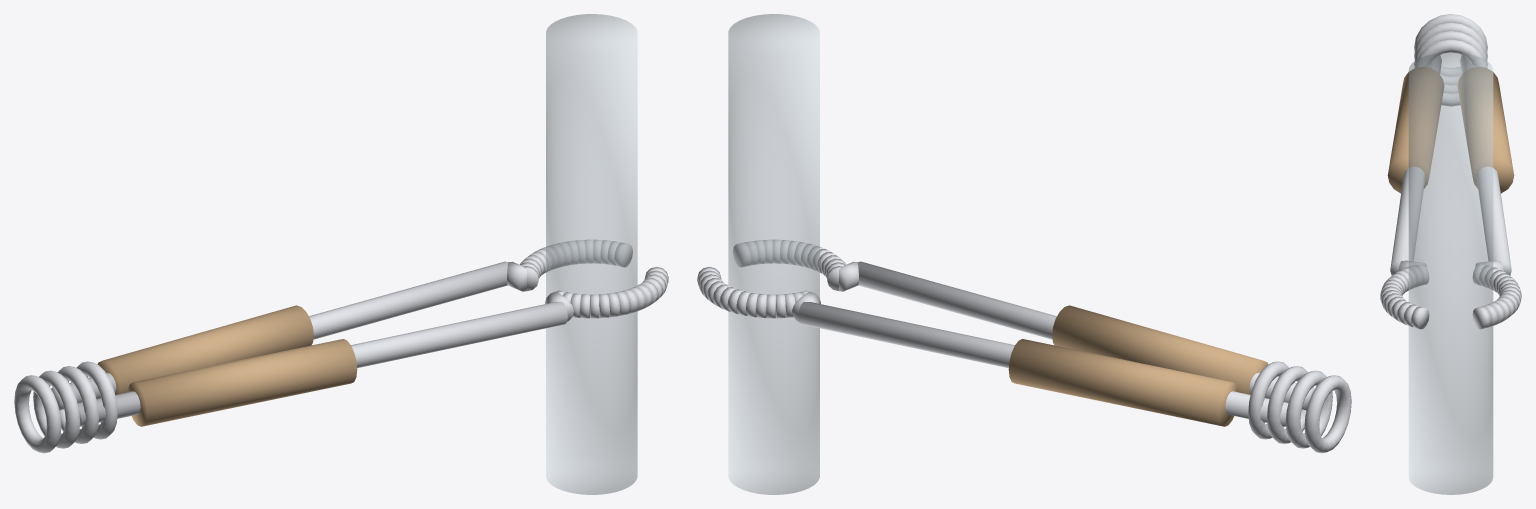
Rendered from pinza-tubo.glb.
3 views of the same model, side by side, from view 1: azimuth 30°, elevation 25°; view 2: azimuth 150°, elevation 25°; view 3: azimuth 270°, elevation 25° (orthographic). The views are drawn at different scales.
Visible parts, largest first — view 1: pinza-tubo_12, pinza-tubo_6, pinza-tubo_7, pinza-tubo_0, pinza-tubo_1, pinza-tubo_8, pinza-tubo_9, pinza-tubo_2, pinza-tubo_3, pinza-tubo_4, pinza-tubo_5; view 2: pinza-tubo_12, pinza-tubo_7, pinza-tubo_6, pinza-tubo_1, pinza-tubo_0, pinza-tubo_9, pinza-tubo_8, pinza-tubo_2, pinza-tubo_3, pinza-tubo_4, pinza-tubo_5; view 3: pinza-tubo_12, pinza-tubo_6, pinza-tubo_7, pinza-tubo_0, pinza-tubo_1, pinza-tubo_8, pinza-tubo_9, pinza-tubo_5, pinza-tubo_2, pinza-tubo_3, pinza-tubo_4.
Boxes of the visible parts, box(x1,y1,x2,y2) form: pinza-tubo_12: box(546, 14, 637, 494); pinza-tubo_6: box(127, 339, 357, 426); pinza-tubo_7: box(97, 305, 313, 394); pinza-tubo_0: box(77, 302, 567, 426); pinza-tubo_1: box(51, 261, 508, 410); pinza-tubo_8: box(520, 239, 632, 290); pinza-tubo_9: box(557, 267, 668, 318); pinza-tubo_2: box(14, 375, 61, 453); pinza-tubo_3: box(33, 370, 80, 448); pinza-tubo_4: box(52, 366, 98, 443); pinza-tubo_5: box(71, 361, 117, 439); pinza-tubo_12: box(728, 14, 819, 494); pinza-tubo_7: box(1008, 339, 1238, 426); pinza-tubo_6: box(1052, 305, 1268, 394); pinza-tubo_1: box(798, 302, 1288, 426); pinza-tubo_0: box(857, 261, 1314, 410); pinza-tubo_9: box(733, 239, 845, 290); pinza-tubo_8: box(697, 267, 808, 318); pinza-tubo_2: box(1304, 375, 1351, 453); pinza-tubo_3: box(1285, 370, 1332, 448); pinza-tubo_4: box(1267, 366, 1313, 443); pinza-tubo_5: box(1248, 361, 1294, 439); pinza-tubo_12: box(1408, 52, 1493, 494); pinza-tubo_6: box(1387, 66, 1444, 193); pinza-tubo_7: box(1457, 66, 1514, 193); pinza-tubo_0: box(1390, 55, 1441, 275); pinza-tubo_1: box(1460, 55, 1511, 275); pinza-tubo_8: box(1472, 264, 1521, 329); pinza-tubo_9: box(1380, 264, 1429, 329); pinza-tubo_5: box(1415, 39, 1486, 106); pinza-tubo_2: box(1414, 14, 1487, 76); pinza-tubo_3: box(1414, 22, 1487, 84); pinza-tubo_4: box(1414, 31, 1487, 93).
Bounding box in the file's own units: 0.132 × 0.09 × 0.0284.
